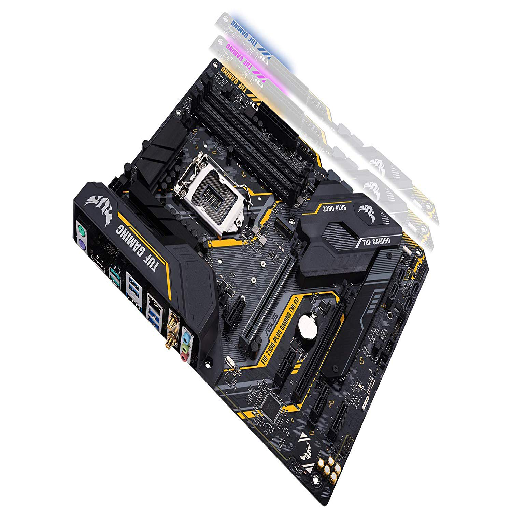CPU: (174, 157, 250, 235)
GPU: (291, 278, 357, 406), (237, 251, 299, 345)
MOTHERBOARD: (69, 60, 436, 508)
RAM: (184, 68, 308, 205)
SSD: (274, 212, 298, 239)
